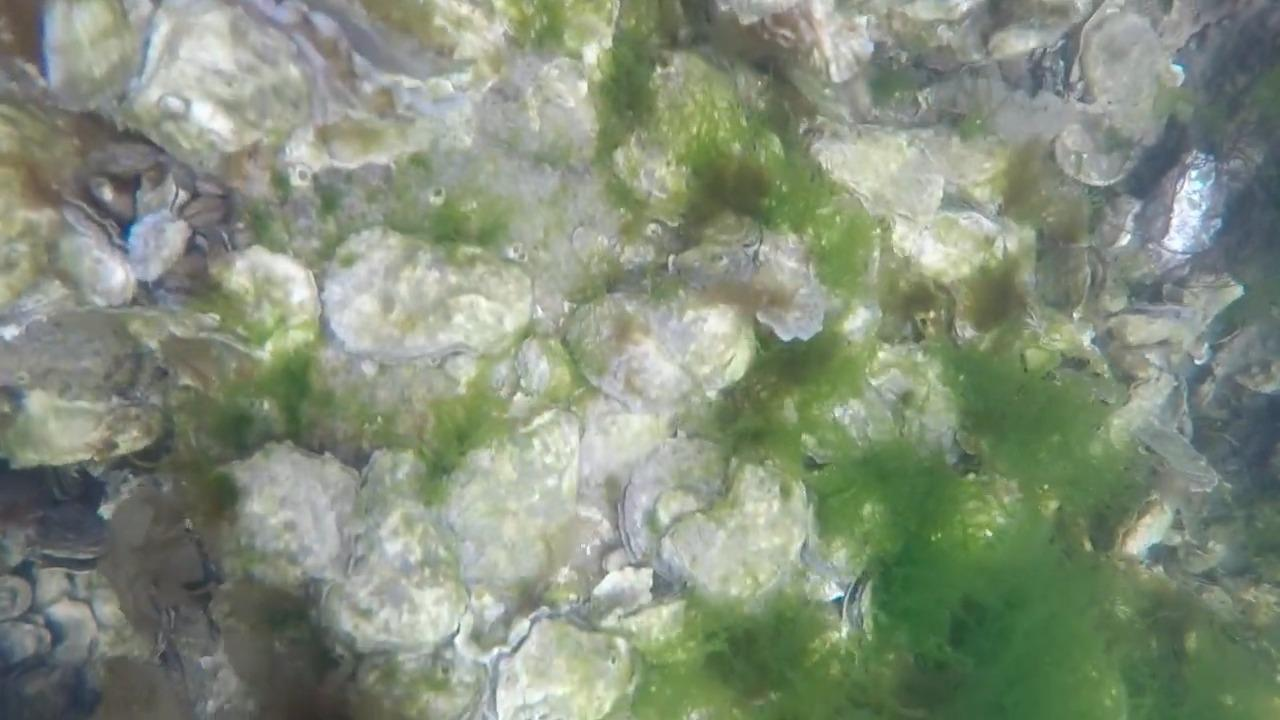Oyster: (120, 3, 309, 174), (321, 226, 537, 372), (322, 452, 474, 653), (435, 416, 590, 611), (612, 45, 776, 210), (327, 228, 532, 355), (561, 289, 758, 418), (655, 455, 812, 609), (192, 579, 354, 718), (215, 438, 362, 589), (220, 432, 364, 580), (0, 87, 87, 313), (482, 607, 642, 717), (467, 51, 610, 173), (612, 428, 732, 573), (840, 341, 970, 464), (692, 227, 826, 346), (486, 615, 637, 720), (802, 127, 952, 229), (1065, 4, 1183, 132), (197, 242, 326, 359), (720, 1, 875, 94), (2, 380, 144, 472), (1132, 147, 1226, 285), (882, 205, 1006, 299), (350, 636, 482, 718), (972, 85, 1102, 166), (1097, 367, 1195, 473), (42, 1, 138, 107), (303, 111, 439, 182), (52, 209, 138, 310), (15, 492, 117, 573), (605, 588, 700, 661), (1202, 312, 1280, 400), (1101, 305, 1208, 365), (1051, 121, 1138, 192), (123, 206, 195, 287), (507, 331, 577, 409), (1164, 275, 1251, 337), (578, 562, 659, 628), (1043, 241, 1113, 316), (983, 8, 1078, 62), (1108, 492, 1176, 562), (40, 593, 105, 664), (844, 571, 898, 652)
